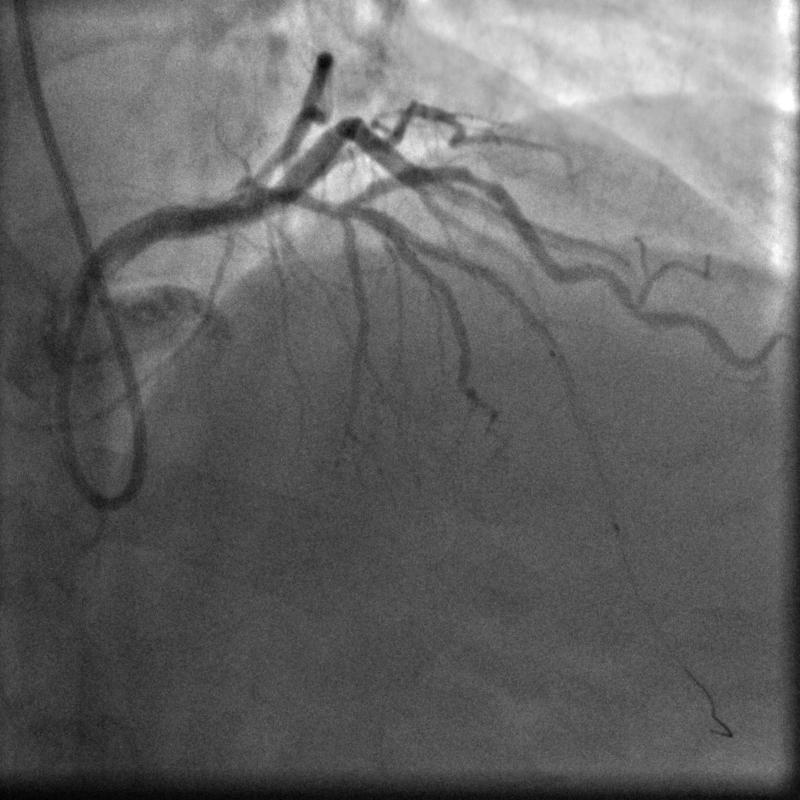Stenosis: (453, 162, 501, 202)
